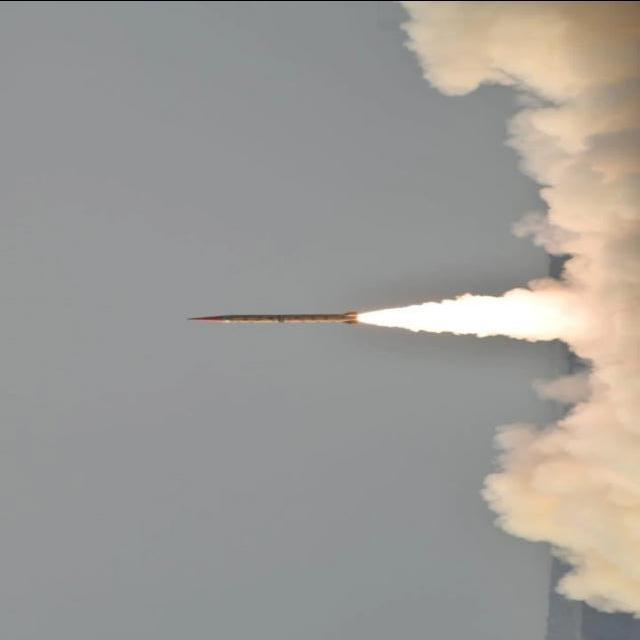Missile: (180, 307, 364, 326)
